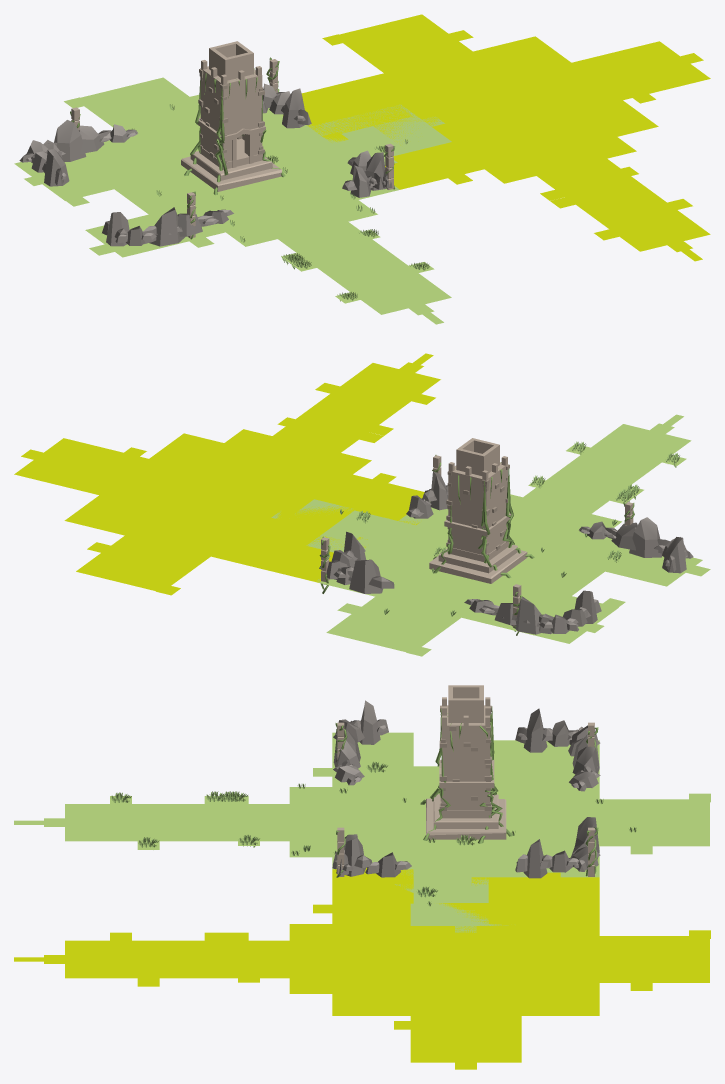
Rendered from planeGround4.glb.
3 renders of one model, top to bottom at view 1: azimuth 30°, elevation 25°; view 2: azimuth 150°, elevation 25°; view 3: azimuth 270°, elevation 25°, orthographic. The views are drawn at different scales.
Visible parts, largest first — view 1: Object_7, Object_7.001, Object_3, Object_9, Object_11, Object_4, Object_2; view 2: Object_7, Object_7.001, Object_9, Object_3, Object_11, Object_4, Object_2; view 3: Object_7, Object_7.001, Object_3, Object_9, Object_11, Object_4, Object_2.
Boxes of the visible parts, box(x1,y1,x2,y2) form: Object_7: box(301, 14, 710, 261); Object_7.001: box(14, 77, 451, 324); Object_3: box(71, 41, 393, 238); Object_9: box(19, 83, 393, 246); Object_11: box(70, 57, 395, 239); Object_4: box(131, 104, 385, 301); Object_2: box(198, 68, 264, 163); Object_7: box(14, 353, 440, 595); Object_7.001: box(271, 414, 710, 656); Object_9: box(319, 471, 693, 634); Object_3: box(321, 438, 633, 628); Object_11: box(319, 455, 634, 635); Object_4: box(356, 452, 679, 616); Object_2: box(446, 464, 509, 555); Object_7: box(14, 867, 710, 1069); Object_7.001: box(14, 732, 710, 932); Object_3: box(337, 685, 594, 876); Object_9: box(332, 700, 600, 878); Object_11: box(335, 706, 598, 877); Object_4: box(110, 762, 636, 897); Object_2: box(439, 705, 491, 810).
Bounding box in the file's own units: 40.22 × 8.67 × 34.3.
